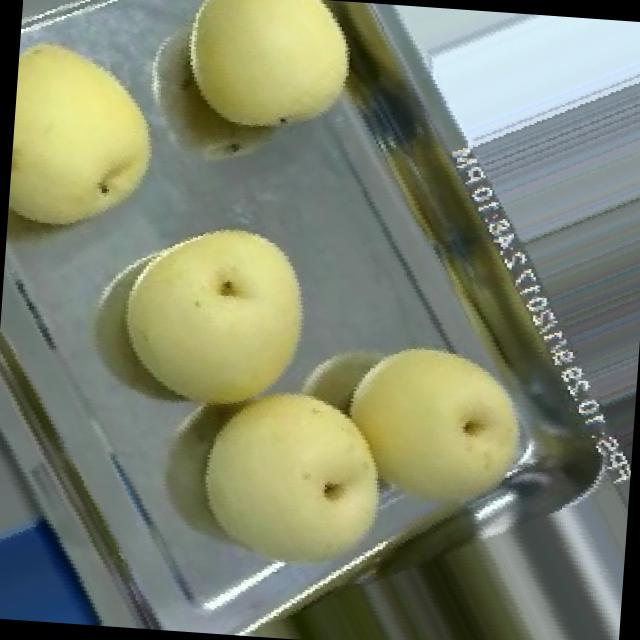Fruit: (170, 362, 418, 604), (92, 195, 330, 440), (318, 315, 553, 542), (4, 17, 191, 266), (157, 0, 372, 162)
